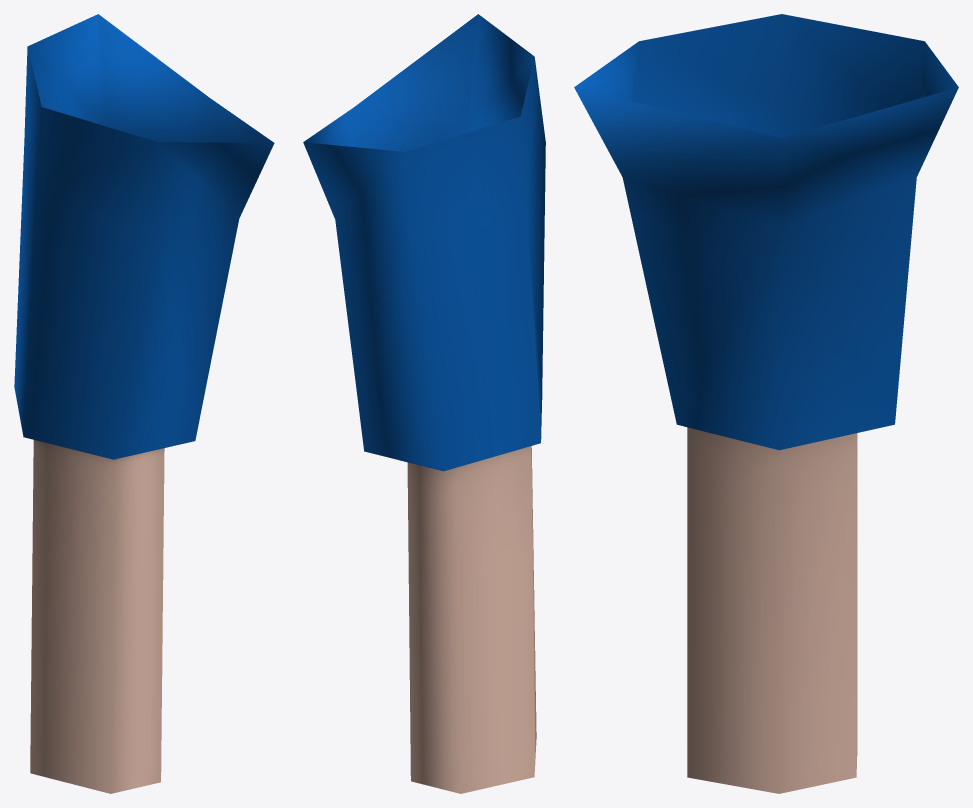
The model's file is piernasupder.obj.
3 renders of one model, left to right at view 1: azimuth 30°, elevation 25°; view 2: azimuth 150°, elevation 25°; view 3: azimuth 270°, elevation 25°, orthographic. The views are drawn at different scales.
Visible parts, largest first — view 1: piernasupder_Material.001; view 2: piernasupder_Material.001; view 3: piernasupder_Material.001.
Part boxes in pixels (box(x1,y1,x2,y2)): piernasupder_Material.001: box(14, 14, 274, 793); piernasupder_Material.001: box(303, 14, 545, 793); piernasupder_Material.001: box(574, 14, 958, 793).
Size of the model in its own units: 4.51 by 15.25 by 7.35.
